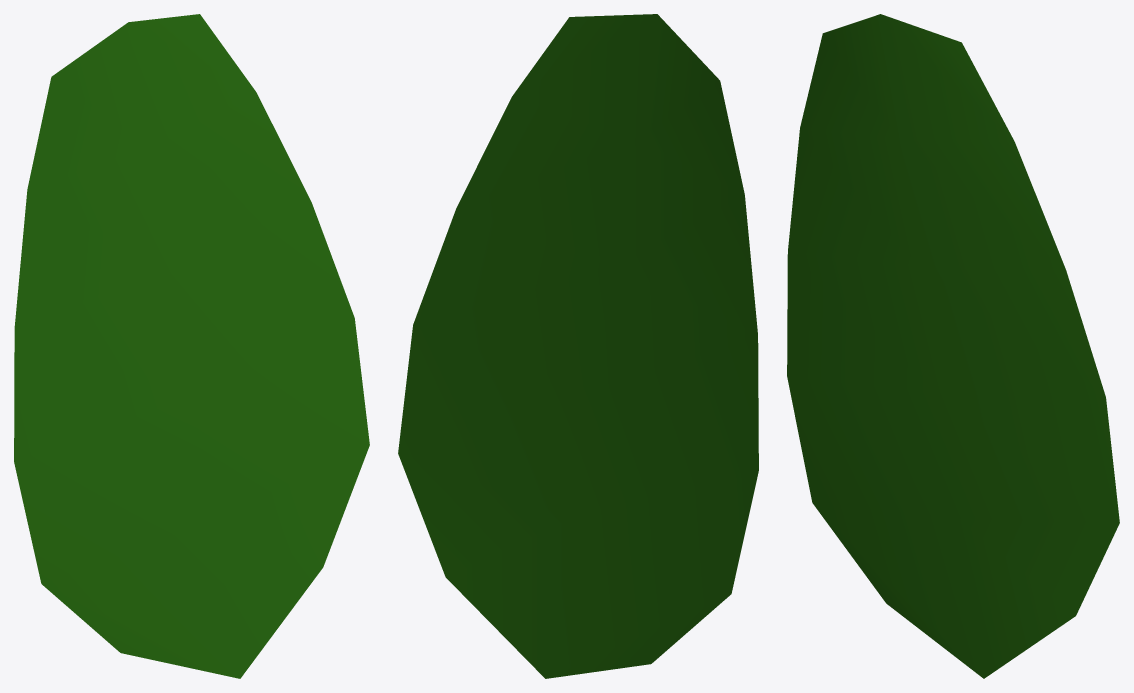
File: lovebird_feather_flight_tertiary_014.001.obj
3 views of the same model, side by side, from view 1: azimuth 30°, elevation 25°; view 2: azimuth 150°, elevation 25°; view 3: azimuth 330°, elevation 25° (orthographic). The views are drawn at different scales.
Parts seen in each view (by area): view 1: feather_flight_tertiary_014.001; view 2: feather_flight_tertiary_014.001; view 3: feather_flight_tertiary_014.001.
Part boxes in pixels (box(x1,y1,x2,y2)): feather_flight_tertiary_014.001: box(14, 14, 369, 678); feather_flight_tertiary_014.001: box(398, 14, 758, 678); feather_flight_tertiary_014.001: box(787, 14, 1119, 678).
Size of the model in its own units: 0.0043 by 0.00789 by 0.000175.
